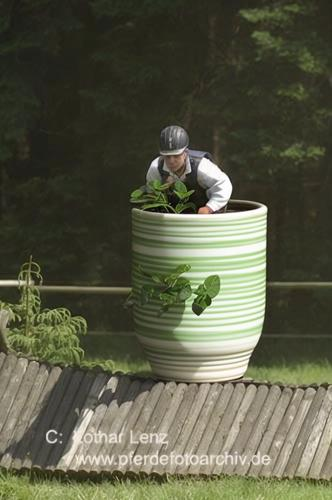person: (125, 128, 265, 325)
person/foot: (244, 304, 264, 325), (125, 294, 141, 312)
person/hand: (190, 204, 205, 219)
person/head: (160, 127, 188, 170)
pottedplant: (131, 180, 270, 383)
